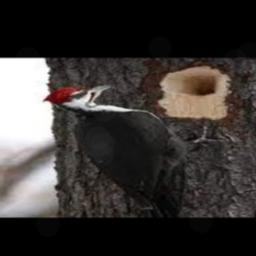Woodpecker: (43, 84, 222, 217)
